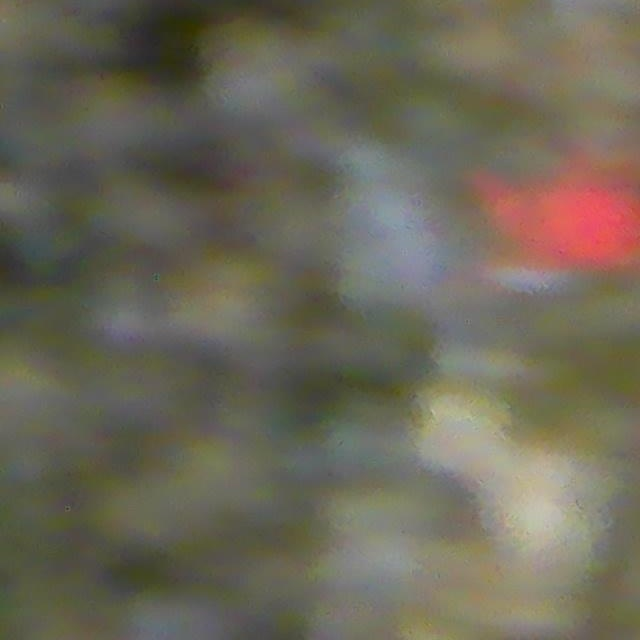SeaGrape: (196, 12, 309, 131)
